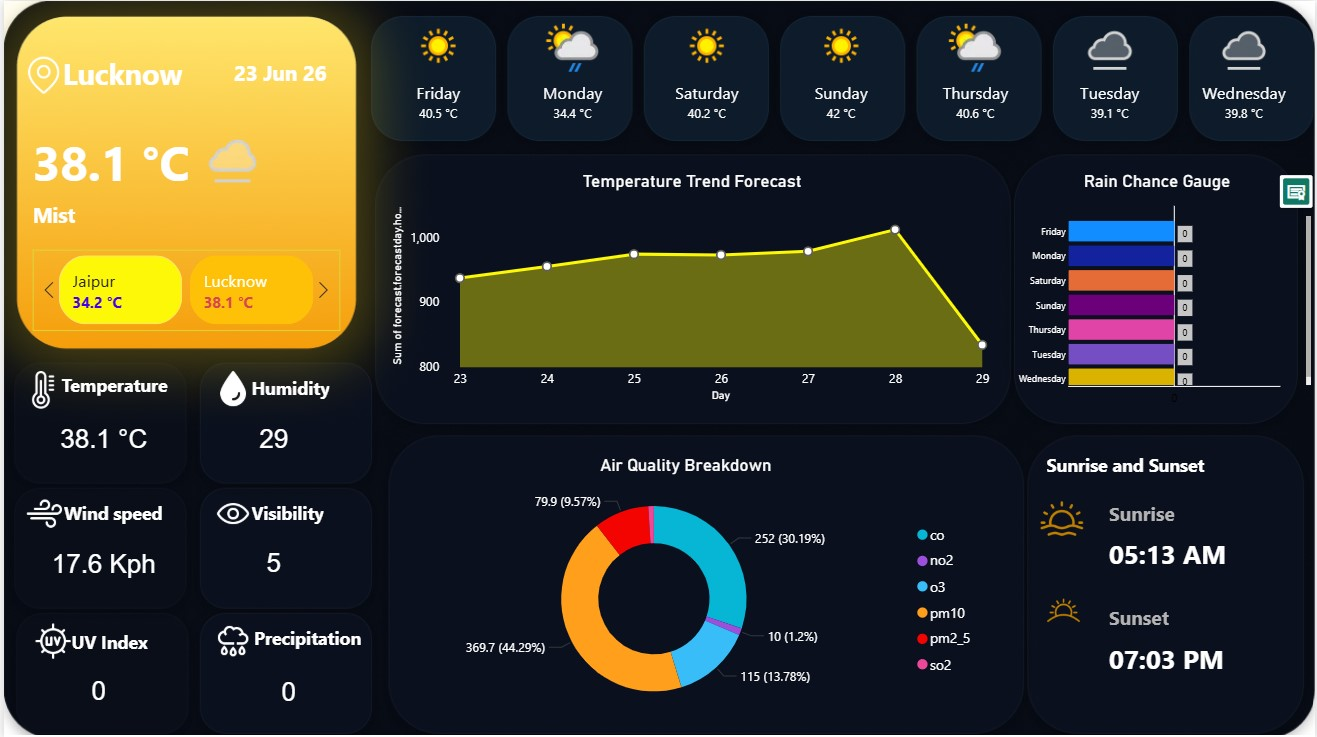

This screenshot's page, from the dashboard's own definition file:
{"tool":"powerbi","page":{"name":"Page 1","canvas":[1280,720],"ordinal":0},"visuals":[{"type":"advancedSlicerVisual","fields":{"Values":["Locations.location.name"],"Label":["_Measures.Curr_Temp_C"]},"box":[28.4,243.3,300,79.1],"z":0},{"type":"shape","box":[28.4,122.4,180.6,68.7],"z":1000},{"type":"shape","box":[28.4,191,273.1,34.3],"z":2000},{"type":"shape","box":[56.7,46.3,152.2,47.8],"z":3000},{"type":"image","box":[20.9,46.3,35.8,52.2],"z":4000},{"type":"shape","box":[223.9,52.2,104.5,34.3],"z":5000},{"type":"cardVisual","fields":{"Data":["Min(Current.current.condition.icon)"]},"box":[159.7,94,126.9,114.9],"z":6000},{"type":"image","box":[11,361,54.9,36.6],"z":7000},{"type":"shape","box":[56.1,350,152.4,47.6],"z":8000},{"type":"image","box":[20.7,606.1,54.9,36.6],"z":9000},{"type":"image","box":[196.3,606.1,54.9,36.6],"z":10000},{"type":"image","box":[196.3,481.7,54.9,36.6],"z":11000},{"type":"image","box":[12.2,481.7,54.9,36.6],"z":12000},{"type":"image","box":[196.3,359.8,54.9,36.6],"z":13000},{"type":"shape","box":[241.5,353.7,152.4,47.6],"z":14000},{"type":"shape","box":[58.5,475.6,152.4,47.6],"z":15000},{"type":"shape","box":[241.5,475.6,152.4,47.6],"z":16000},{"type":"shape","box":[65.9,601.2,152.4,47.6],"z":17000},{"type":"shape","box":[243.9,597.6,152.4,47.6],"z":18000},{"type":"PBI_CV_7B952816_A48F_49B4_9E13_15E3BB2C0337","fields":{"Values":["_Measures.Curr_Temp_C"]},"box":[30.5,396.3,134.1,63.4],"z":19000},{"type":"PBI_CV_7B952816_A48F_49B4_9E13_15E3BB2C0337","fields":{"Values":["Sum(Current.current.humidity)"]},"box":[196,396.3,134.1,63.4],"z":20000},{"type":"PBI_CV_7B952816_A48F_49B4_9E13_15E3BB2C0337","fields":{"Values":["_Measures.Wind_Speed"]},"box":[30,518.3,134.1,63],"z":21000},{"type":"PBI_CV_7B952816_A48F_49B4_9E13_15E3BB2C0337","fields":{"Values":["Sum(Current.current.vis_km)"]},"box":[196.3,518.3,134.1,62.2],"z":22000},{"type":"PBI_CV_7B952816_A48F_49B4_9E13_15E3BB2C0337","fields":{"Values":["Sum(Current.current.uv)"]},"box":[25.6,642.7,134.1,62.2],"z":23000},{"type":"PBI_CV_7B952816_A48F_49B4_9E13_15E3BB2C0337","fields":{"Values":["Sum(Current.current.precip_in)"]},"box":[211,643.9,134.1,62.2],"z":24000},{"type":"advancedSlicerVisual","box":[361,7.3,919.5,150],"z":24001}]}

Visuals, with their boxes in screenshot pixels (x1, y1, x2, y2), scaled from the page's 1280x720 canvas onto the 1317x737 screenshot:
advancedSlicerVisual - Locations.location.name x _Measures.Curr_Temp_C: (left=29, top=249, right=338, bottom=330)
shape: (left=29, top=125, right=215, bottom=196)
shape: (left=29, top=196, right=310, bottom=231)
shape: (left=58, top=47, right=215, bottom=96)
image: (left=22, top=47, right=58, bottom=101)
shape: (left=230, top=53, right=338, bottom=89)
cardVisual - Min(Current.current.condition.icon): (left=164, top=96, right=295, bottom=214)
image: (left=11, top=370, right=68, bottom=407)
shape: (left=58, top=358, right=215, bottom=407)
image: (left=21, top=620, right=78, bottom=658)
image: (left=202, top=620, right=258, bottom=658)
image: (left=202, top=493, right=258, bottom=531)
image: (left=13, top=493, right=69, bottom=531)
image: (left=202, top=368, right=258, bottom=406)
shape: (left=248, top=362, right=405, bottom=411)
shape: (left=60, top=487, right=217, bottom=536)
shape: (left=248, top=487, right=405, bottom=536)
shape: (left=68, top=615, right=225, bottom=664)
shape: (left=251, top=612, right=408, bottom=660)
PBI_CV_7B952816_A48F_49B4_9E13_15E3BB2C0337 - _Measures.Curr_Temp_C: (left=31, top=406, right=169, bottom=471)
PBI_CV_7B952816_A48F_49B4_9E13_15E3BB2C0337 - Sum(Current.current.humidity): (left=202, top=406, right=340, bottom=471)
PBI_CV_7B952816_A48F_49B4_9E13_15E3BB2C0337 - _Measures.Wind_Speed: (left=31, top=531, right=169, bottom=595)
PBI_CV_7B952816_A48F_49B4_9E13_15E3BB2C0337 - Sum(Current.current.vis_km): (left=202, top=531, right=340, bottom=594)
PBI_CV_7B952816_A48F_49B4_9E13_15E3BB2C0337 - Sum(Current.current.uv): (left=26, top=658, right=164, bottom=722)
PBI_CV_7B952816_A48F_49B4_9E13_15E3BB2C0337 - Sum(Current.current.precip_in): (left=217, top=659, right=355, bottom=723)
advancedSlicerVisual: (left=371, top=7, right=1316, bottom=161)
